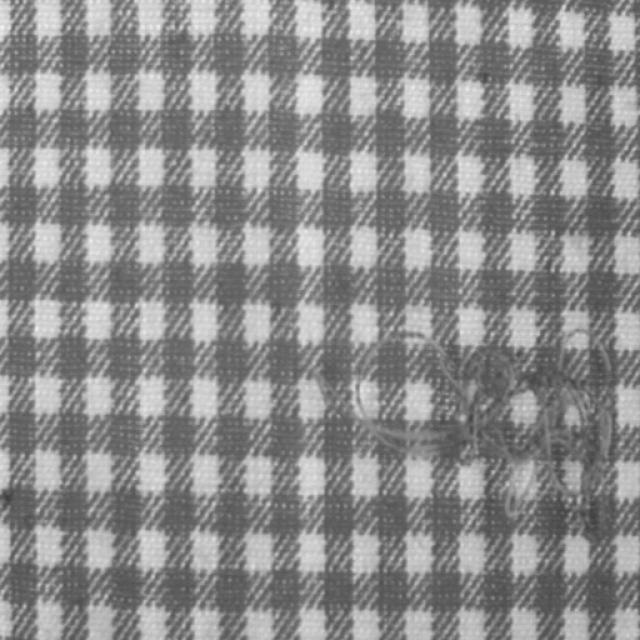Foreign-Body-Defect: (352, 314, 614, 526), (555, 324, 619, 380)
